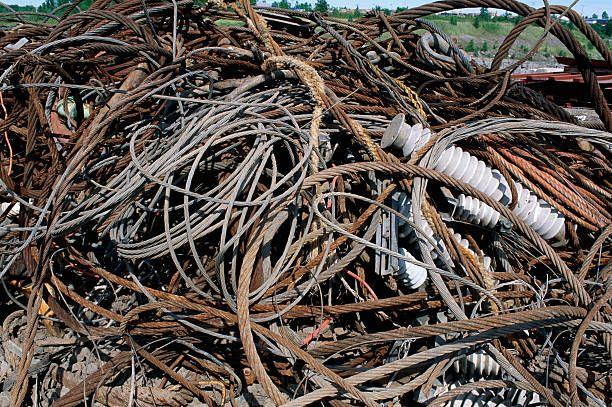metal: (292, 2, 603, 261), (295, 170, 599, 403), (34, 14, 316, 231), (247, 5, 459, 105)
